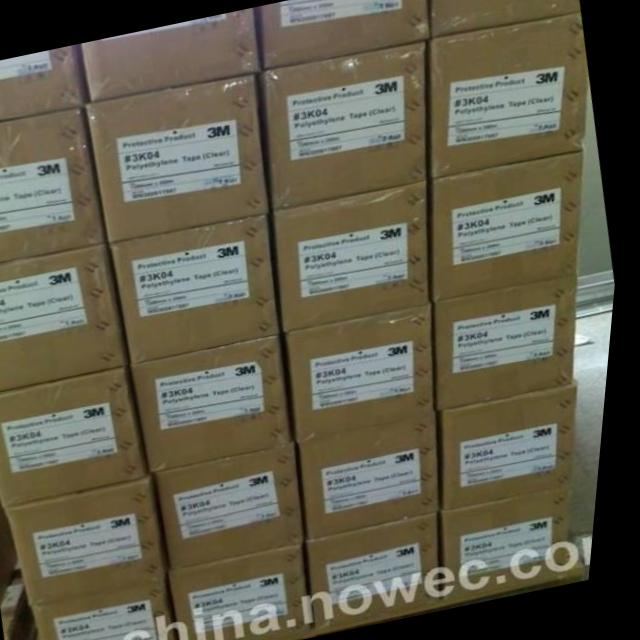box: (85, 72, 272, 243), (261, 40, 429, 210), (429, 12, 589, 178), (115, 212, 285, 363), (276, 180, 435, 332), (433, 151, 584, 301), (135, 333, 297, 471), (10, 475, 178, 606), (0, 365, 156, 505), (291, 304, 442, 441), (0, 242, 134, 391), (160, 443, 313, 571), (439, 273, 582, 409), (304, 413, 447, 540), (77, 7, 262, 103), (0, 107, 110, 263), (447, 384, 583, 510), (320, 511, 453, 630), (450, 482, 581, 601), (178, 543, 324, 640), (255, 0, 431, 70), (42, 575, 187, 640), (0, 45, 89, 121), (430, 0, 579, 39)
